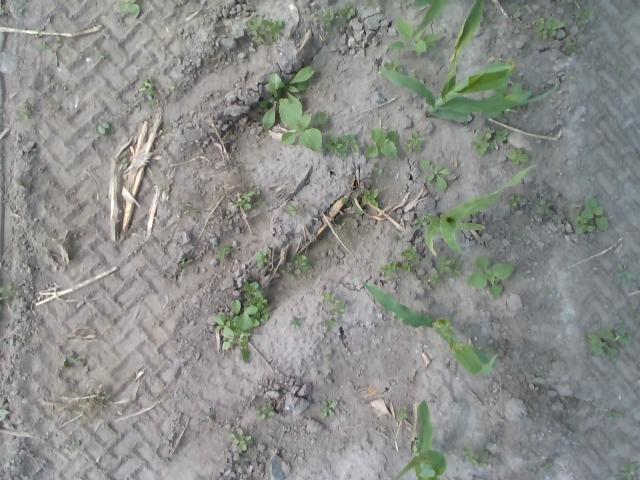Maize: (376, 0, 556, 123), (362, 280, 501, 378), (423, 164, 537, 255), (391, 398, 447, 480), (410, 0, 462, 39)
Weeds: (258, 65, 316, 131), (212, 299, 260, 364), (466, 256, 516, 298), (280, 112, 328, 153), (389, 20, 443, 55), (484, 82, 531, 117), (586, 324, 630, 360), (569, 196, 609, 232), (242, 281, 272, 321), (364, 127, 399, 159), (247, 16, 284, 46), (469, 128, 508, 156), (226, 426, 251, 469), (420, 160, 451, 190), (279, 252, 313, 278), (323, 132, 359, 156), (379, 260, 414, 280), (534, 16, 565, 38), (72, 396, 106, 415), (462, 446, 490, 468), (236, 189, 264, 210), (322, 291, 347, 314), (139, 78, 158, 108), (438, 254, 463, 276), (615, 264, 638, 286), (342, 192, 364, 214), (505, 147, 530, 165), (404, 132, 425, 153), (312, 9, 335, 28), (118, 0, 142, 18), (36, 36, 62, 50), (361, 188, 380, 206), (336, 3, 356, 20), (381, 56, 402, 72), (400, 246, 420, 262), (578, 7, 595, 25), (321, 401, 338, 419), (534, 199, 550, 217), (620, 462, 636, 480), (256, 404, 274, 420), (254, 248, 268, 267), (288, 316, 304, 332), (96, 120, 114, 134), (395, 406, 410, 422), (564, 40, 581, 54), (628, 303, 640, 322), (506, 193, 522, 207), (218, 244, 232, 260), (321, 317, 339, 329), (0, 399, 9, 421), (414, 214, 428, 228), (0, 286, 14, 300), (428, 274, 444, 285), (286, 204, 299, 216), (411, 70, 424, 80), (178, 258, 190, 268), (608, 410, 622, 418), (21, 108, 32, 118), (508, 6, 518, 15), (614, 64, 624, 73), (121, 158, 129, 169), (373, 168, 383, 176), (546, 286, 554, 294), (566, 74, 574, 82), (544, 461, 552, 469), (168, 84, 176, 92), (98, 53, 106, 60), (0, 2, 3, 14)
